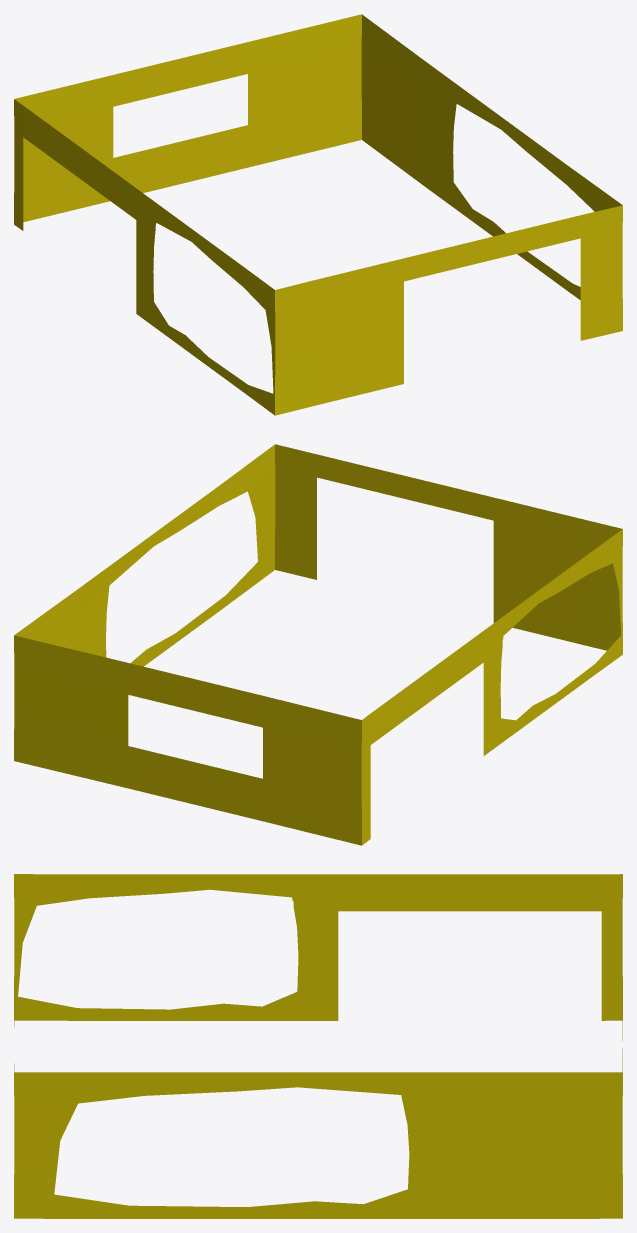
Rendered from BH04B_WP_01_Break.fbx.
3 views of the same model, one above another, from view 1: azimuth 30°, elevation 25°; view 2: azimuth 150°, elevation 25°; view 3: azimuth 270°, elevation 25° (orthographic). The views are drawn at different scales.
Parts seen in each view (by area): view 1: BH04B_WP_01_Break; view 2: BH04B_WP_01_Break; view 3: BH04B_WP_01_Break.
Part boxes in pixels (x1=…): BH04B_WP_01_Break: x1=14, y1=14, x2=622, y2=415; BH04B_WP_01_Break: x1=14, y1=444, x2=622, y2=845; BH04B_WP_01_Break: x1=14, y1=874, x2=622, y2=1218.
Size of the model in its own units: 869 by 301 by 1130.
